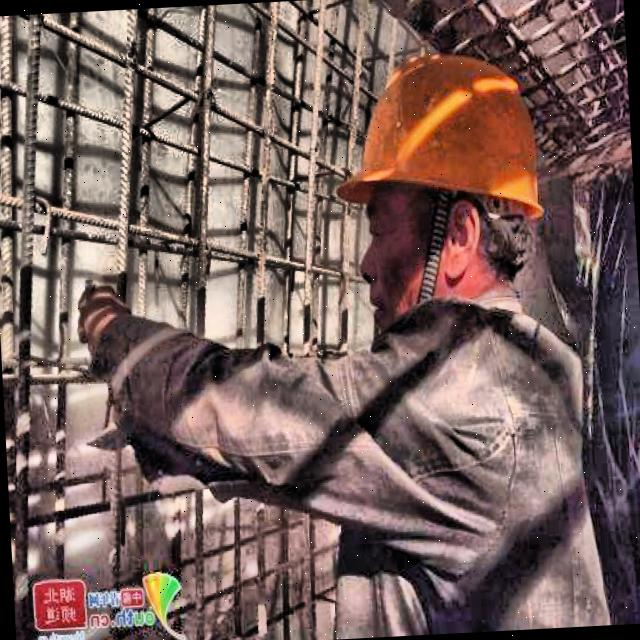helmet: (310, 32, 580, 376), (133, 565, 190, 631)
